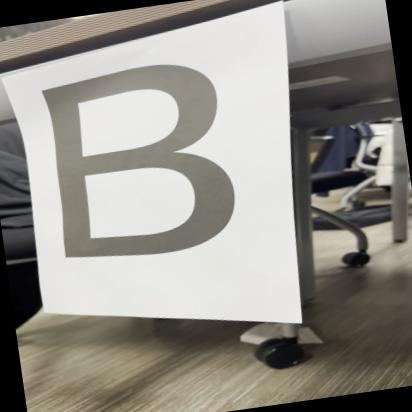seat: (28, 48, 266, 282)
